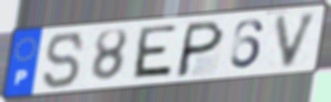6: (229, 18, 266, 71)
8: (88, 28, 130, 86)
E: (128, 23, 179, 81)
P: (172, 18, 227, 79)
S: (42, 30, 86, 91)
V: (273, 9, 322, 70)
